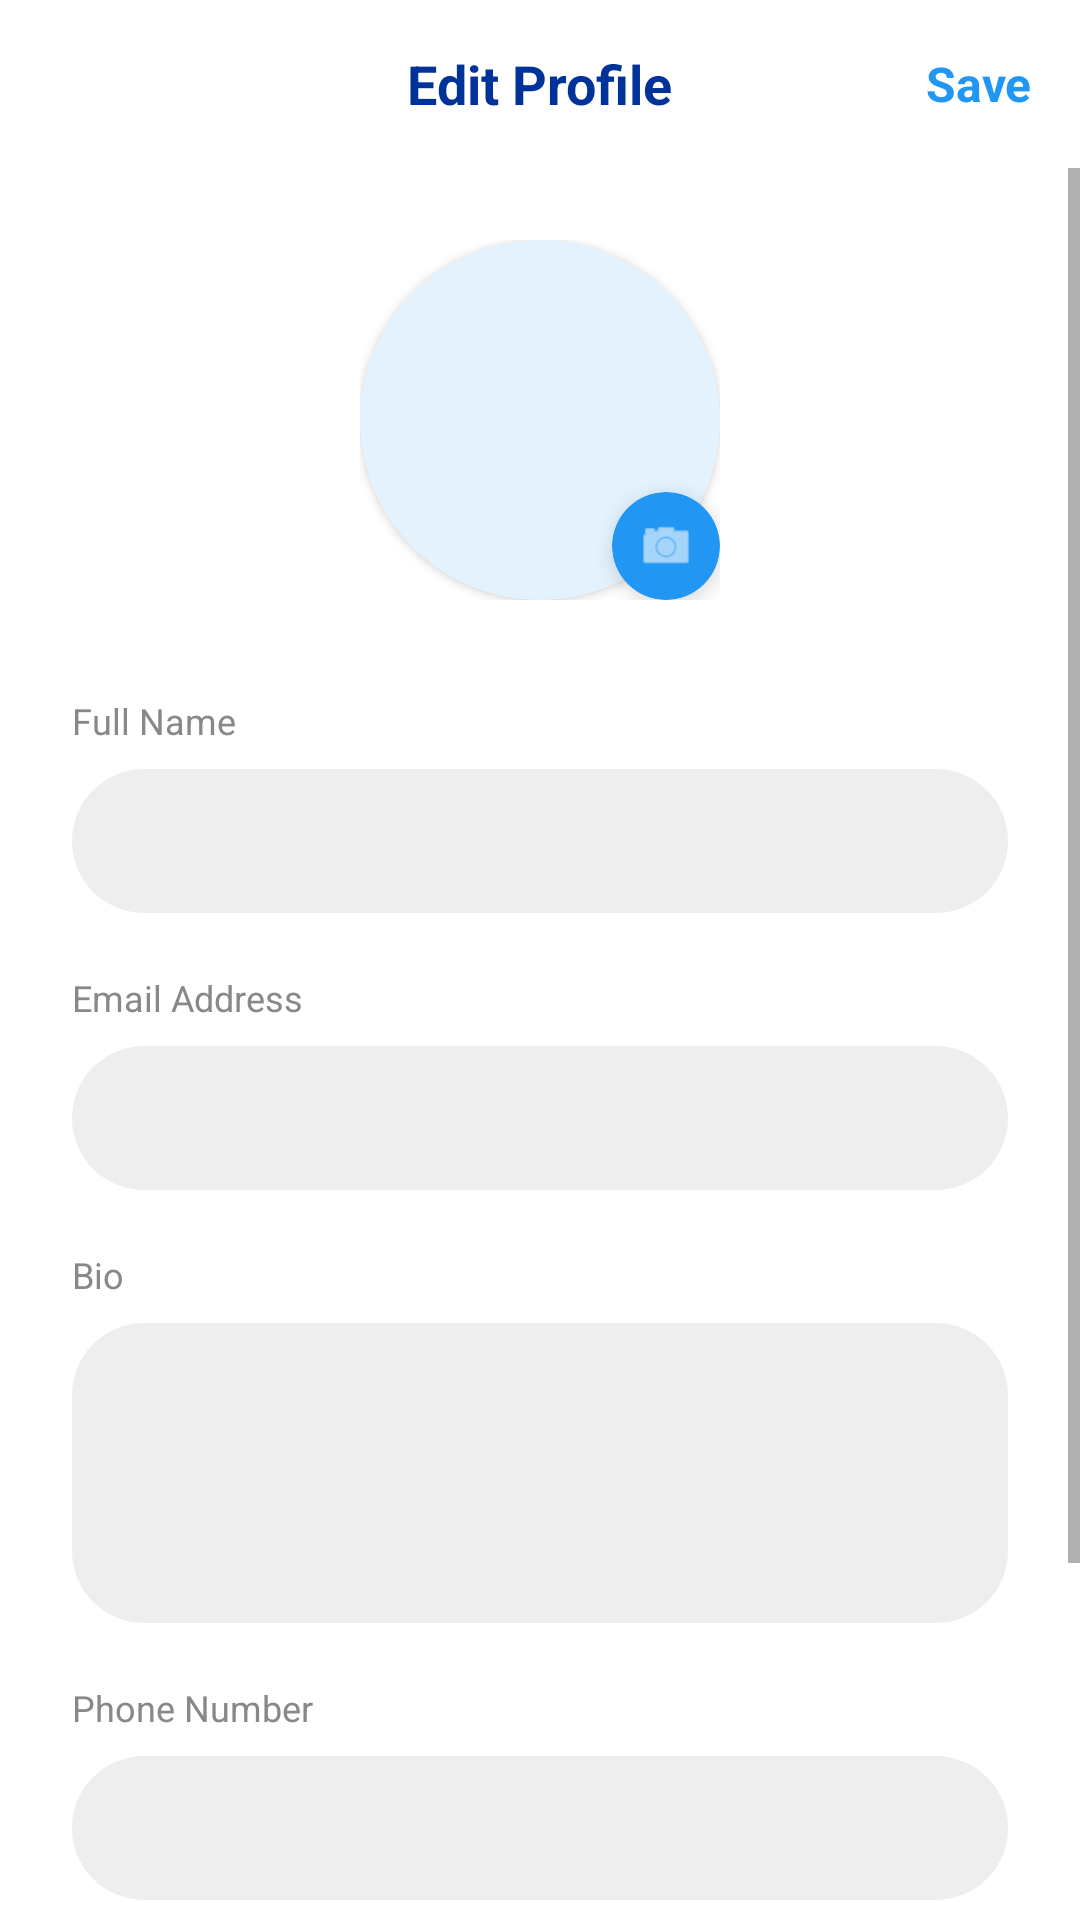

Named icons in this screenshot (1080px x 1920px) and their centers, (x=x, y=y):
camera: (x=666, y=545)
